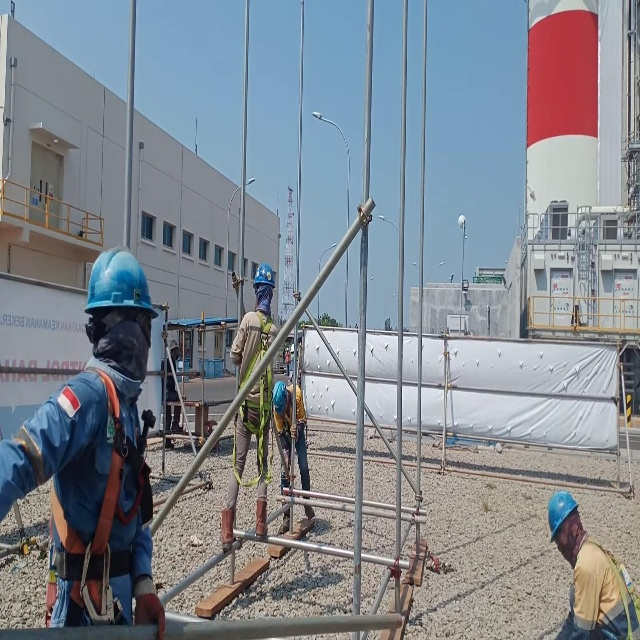Arnes_seguridad: (43, 367, 150, 640), (231, 309, 276, 485)
